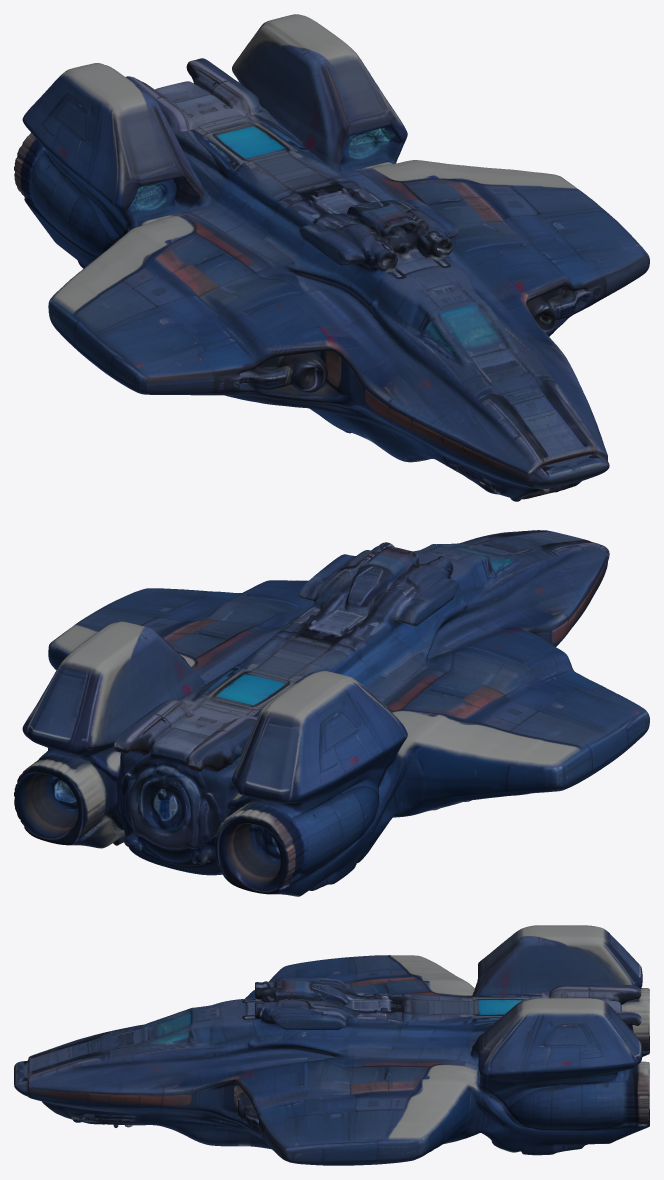
File: default_spaceship.glb
The picture shows the model from 3 angles, top to bottom: view 1: azimuth 30°, elevation 25°; view 2: azimuth 150°, elevation 25°; view 3: azimuth 270°, elevation 25°; orthographic projection. The views are drawn at different scales.
Visible parts, largest first — view 1: tripo_node_a683c5e4-3e9b-4e7c-ba2e-f675349dee46; view 2: tripo_node_a683c5e4-3e9b-4e7c-ba2e-f675349dee46; view 3: tripo_node_a683c5e4-3e9b-4e7c-ba2e-f675349dee46.
Boxes of the visible parts, x1,y1,x2,y2 form: tripo_node_a683c5e4-3e9b-4e7c-ba2e-f675349dee46: (14,14,649,501); tripo_node_a683c5e4-3e9b-4e7c-ba2e-f675349dee46: (14,530,649,896); tripo_node_a683c5e4-3e9b-4e7c-ba2e-f675349dee46: (14,925,649,1165).
Size of the model in its own units: 0.6985 by 0.3004 by 1.
Materials: 1 (1 with a texture image).
